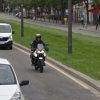Motorcycle: (24, 28, 60, 76)
